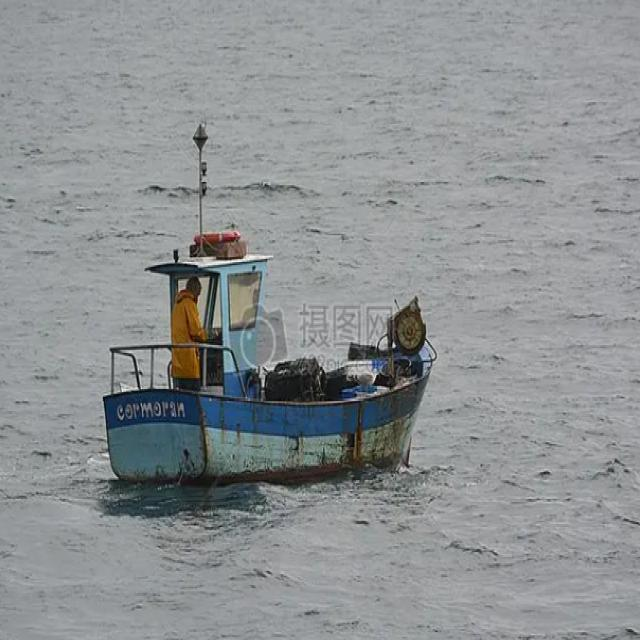fishing boat: (98, 215, 430, 482)
